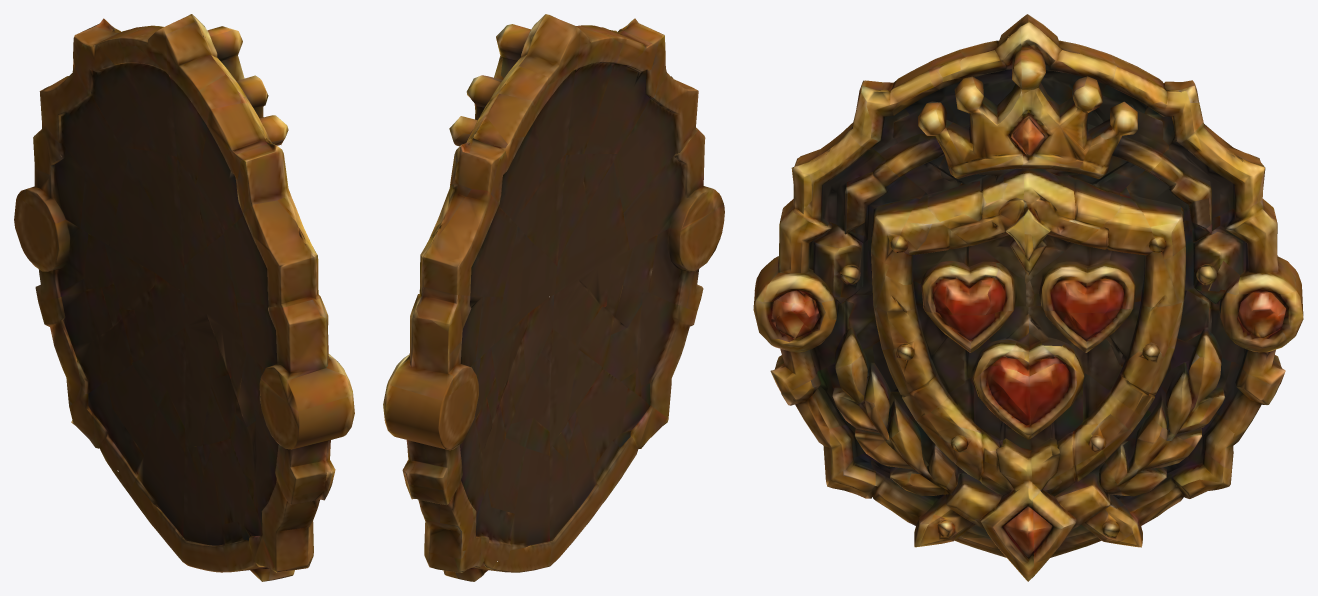
Rendered from iron-will.glb.
3 renders of one model, left to right at view 1: azimuth 30°, elevation 25°; view 2: azimuth 150°, elevation 25°; view 3: azimuth 270°, elevation 25°, orthographic. The views are drawn at different scales.
Size of the model in its own units: 0.2109 by 0.9807 by 0.9212.
Materials: 1 (1 with a texture image).
